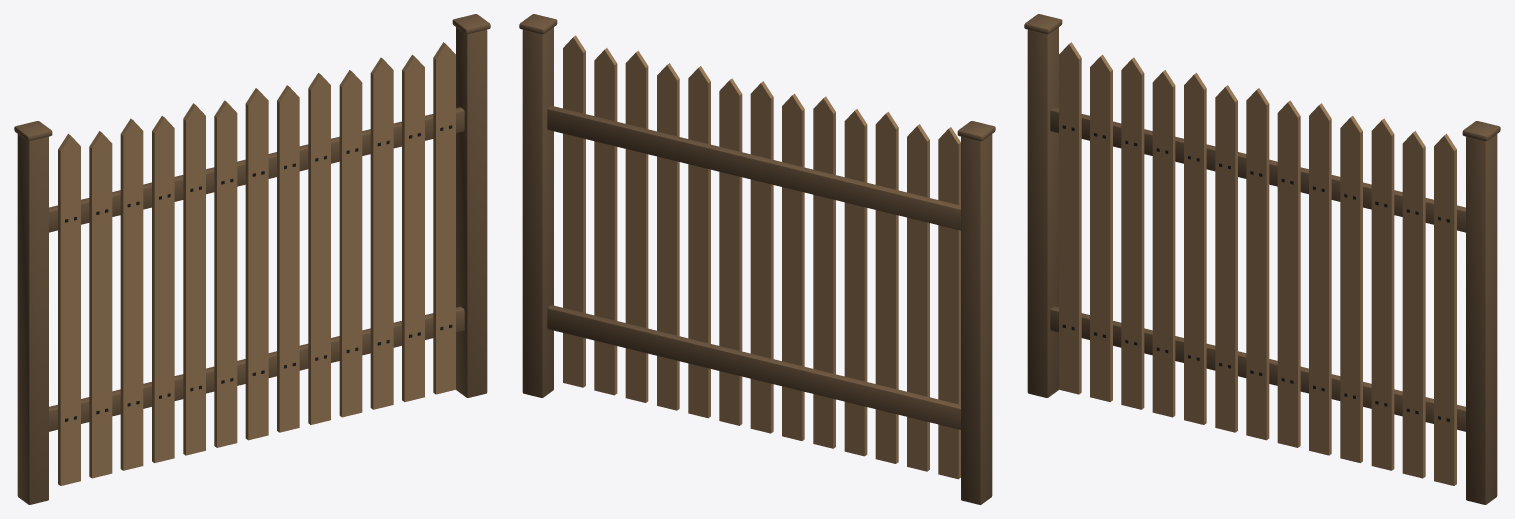
Rendered from FenceWood.fbx.
3 renders of one model, left to right at view 1: azimuth 30°, elevation 25°; view 2: azimuth 150°, elevation 25°; view 3: azimuth 330°, elevation 25°, orthographic.
Visible parts, largest first — view 1: FenceWood_Mesh; view 2: FenceWood_Mesh; view 3: FenceWood_Mesh.
Part boxes in pixels (bbox=[...]): FenceWood_Mesh: bbox=[14, 14, 490, 504]; FenceWood_Mesh: bbox=[519, 14, 995, 504]; FenceWood_Mesh: bbox=[1024, 14, 1500, 504].
Size of the model in its own units: 2.02 by 1.55 by 0.11.
